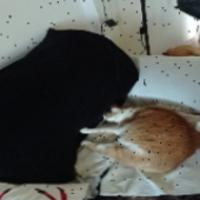asleep: (79, 103, 200, 173)
